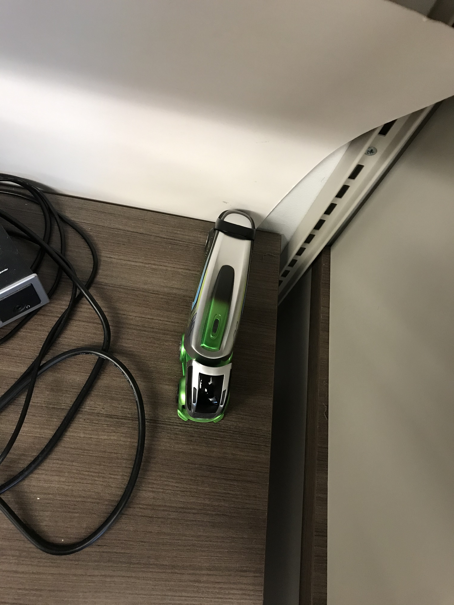Freewheel: (174, 210, 256, 425)
